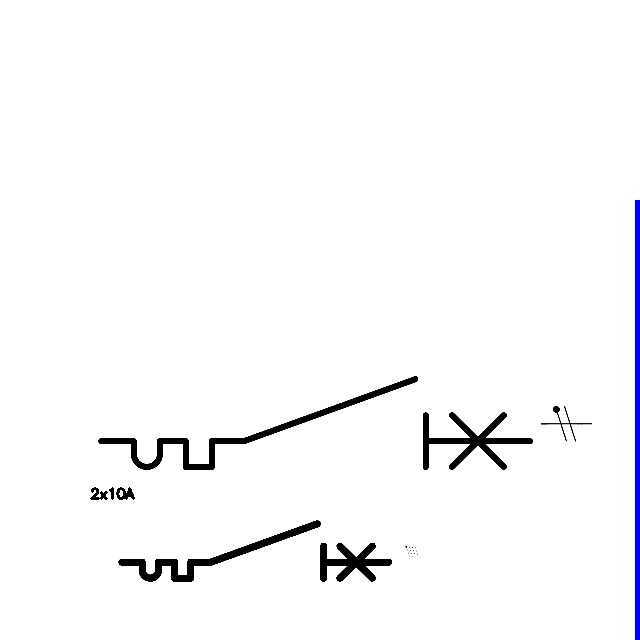interruptor_termomagnetico: (90, 368, 541, 478), (115, 517, 395, 585)
